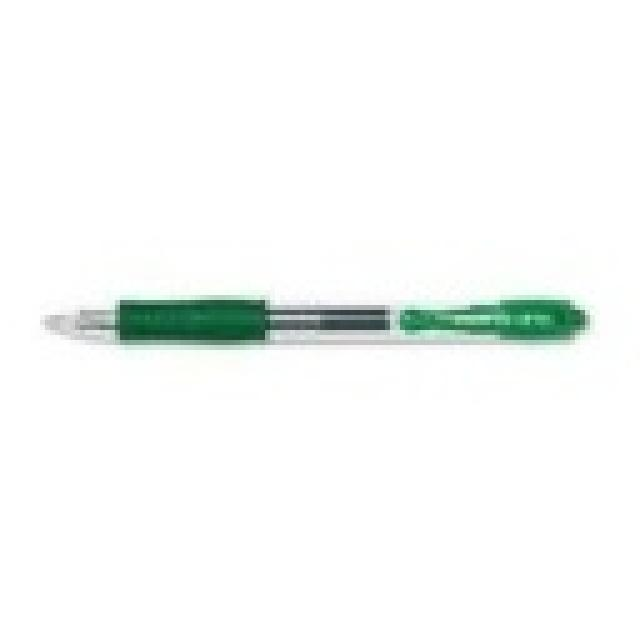pen: (35, 294, 597, 357)
